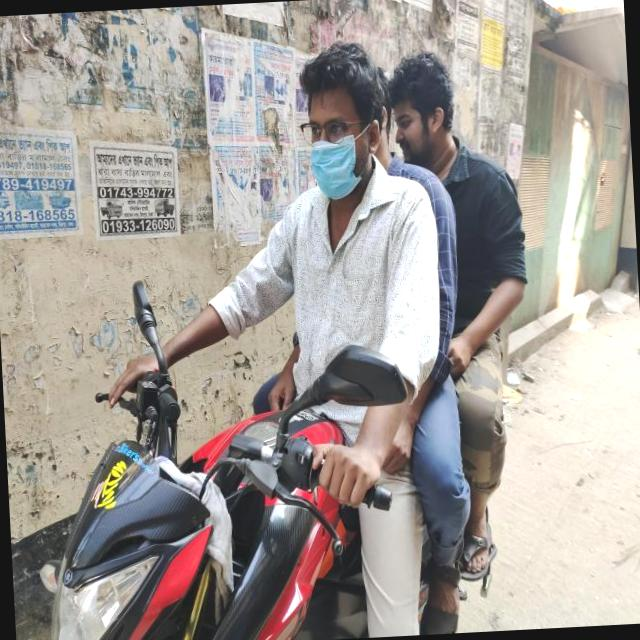motorcycle: (16, 259, 561, 640)
person: (239, 41, 419, 492), (354, 48, 541, 462), (346, 44, 480, 483)
rider_region: (18, 31, 547, 640)
